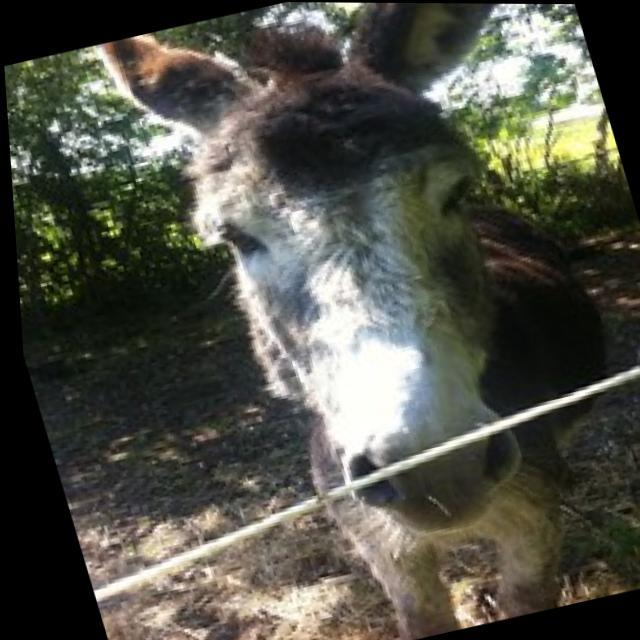Donkey: (89, 1, 640, 640)
